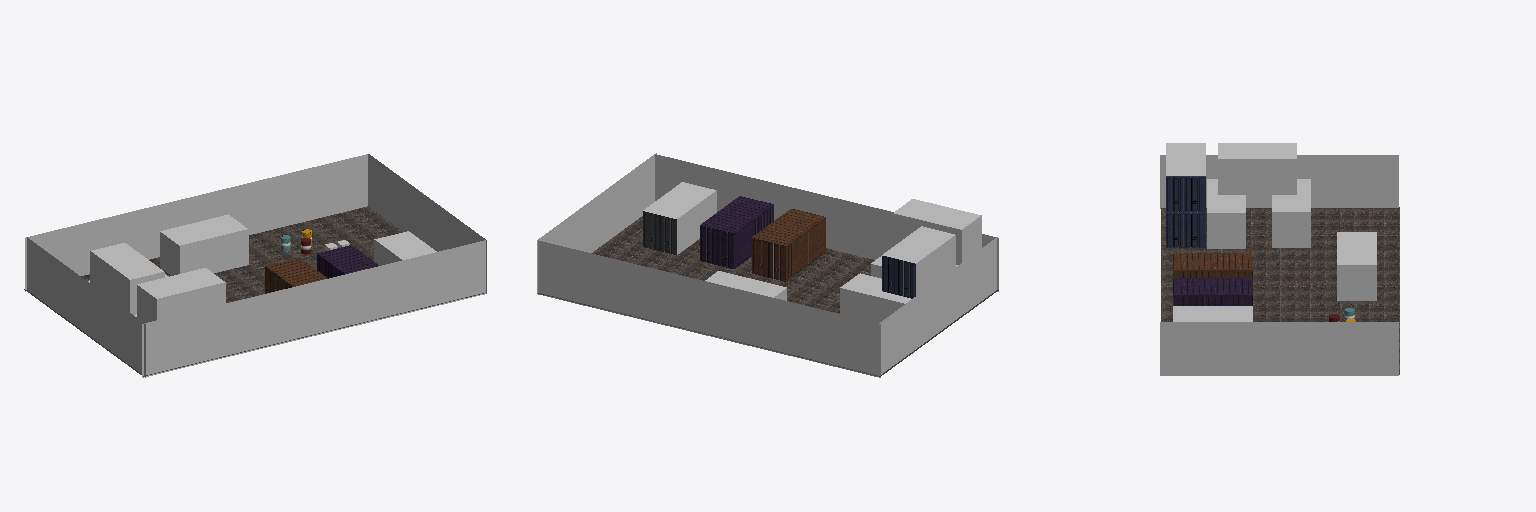
3 views of the same model, side by side, from view 1: azimuth 30°, elevation 25°; view 2: azimuth 150°, elevation 25°; view 3: azimuth 270°, elevation 25° (orthographic).
Visible parts, largest first — view 1: wall_1.001_Plane.005, wall_1_Plane.002, floor_Plane, wall_3.001_Plane.006, wall_3_Plane.003, container_green_closed_1.001_Cube.012, container_blue_closed_2.001_Cube.010, container_blue_closed_2.002_Cube.011, container_orange_closed_1_Cube.006, container_grey_closed_1_Cube.009, container_purple_closed_1_Cube.007; view 2: wall_1_Plane.002, wall_1.001_Plane.005, floor_Plane, wall_3.001_Plane.006, wall_3_Plane.003, container_orange_closed_1_Cube.006, container_blue_closed_2.002_Cube.011, container_grey_closed_1_Cube.009, container_purple_closed_1_Cube.007, container_blue_closed_2.001_Cube.010, container_green_closed_1_Cube.004, container_green_closed_1.001_Cube.012; view 3: floor_Plane, wall_3_Plane.003, wall_3.001_Plane.006, container_blue_closed_2.002_Cube.011, container_green_closed_1.001_Cube.012, container_blue_closed_2.001_Cube.010, container_green_closed_1_Cube.004, container_red_closed_1_Cube.002, container_purple_closed_1_Cube.007, container_orange_closed_1_Cube.006, container_blue_closed_2_Cube.001, container_grey_closed_1_Cube.009.
Boxes of the visible parts, <box> form: wall_1.001_Plane.005: <box>142,240,485,377</box>; wall_1_Plane.002: <box>25,154,367,291</box>; floor_Plane: <box>24,206,483,376</box>; wall_3.001_Plane.006: <box>27,237,145,377</box>; wall_3_Plane.003: <box>368,154,486,293</box>; container_green_closed_1.001_Cube.012: <box>160,214,248,275</box>; container_blue_closed_2.001_Cube.010: <box>137,268,225,322</box>; container_blue_closed_2.002_Cube.011: <box>90,243,164,314</box>; container_orange_closed_1_Cube.006: <box>265,258,327,293</box>; container_grey_closed_1_Cube.009: <box>374,231,436,265</box>; container_purple_closed_1_Cube.007: <box>317,245,378,278</box>; wall_1_Plane.002: <box>538,240,880,377</box>; wall_1.001_Plane.005: <box>655,154,998,291</box>; floor_Plane: <box>537,216,998,376</box>; wall_3.001_Plane.006: <box>879,237,997,374</box>; wall_3_Plane.003: <box>537,153,656,292</box>; container_orange_closed_1_Cube.006: <box>752,209,825,281</box>; container_blue_closed_2.002_Cube.011: <box>882,226,955,298</box>; container_grey_closed_1_Cube.009: <box>643,182,716,254</box>; container_purple_closed_1_Cube.007: <box>700,196,773,268</box>; container_blue_closed_2.001_Cube.010: <box>893,199,981,264</box>; container_green_closed_1_Cube.004: <box>840,273,911,322</box>; container_green_closed_1.001_Cube.012: <box>705,271,786,300</box>; floor_Plane: <box>1161,207,1399,374</box>; wall_3_Plane.003: <box>1160,322,1398,375</box>; wall_3.001_Plane.006: <box>1160,155,1398,208</box>; container_blue_closed_2.002_Cube.011: <box>1218,143,1296,194</box>; container_green_closed_1.001_Cube.012: <box>1337,232,1376,300</box>; container_blue_closed_2.001_Cube.010: <box>1166,143,1205,211</box>; container_green_closed_1_Cube.004: <box>1272,179,1310,247</box>; container_red_closed_1_Cube.002: <box>1207,179,1245,248</box>; container_purple_closed_1_Cube.007: <box>1173,278,1252,305</box>; container_orange_closed_1_Cube.006: <box>1173,253,1252,277</box>; container_blue_closed_2_Cube.001: <box>1166,212,1205,247</box>; container_grey_closed_1_Cube.009: <box>1173,306,1252,321</box>.
Size of the model in its own units: 2000 by 410 by 1207.
25 materials, 13 textured.